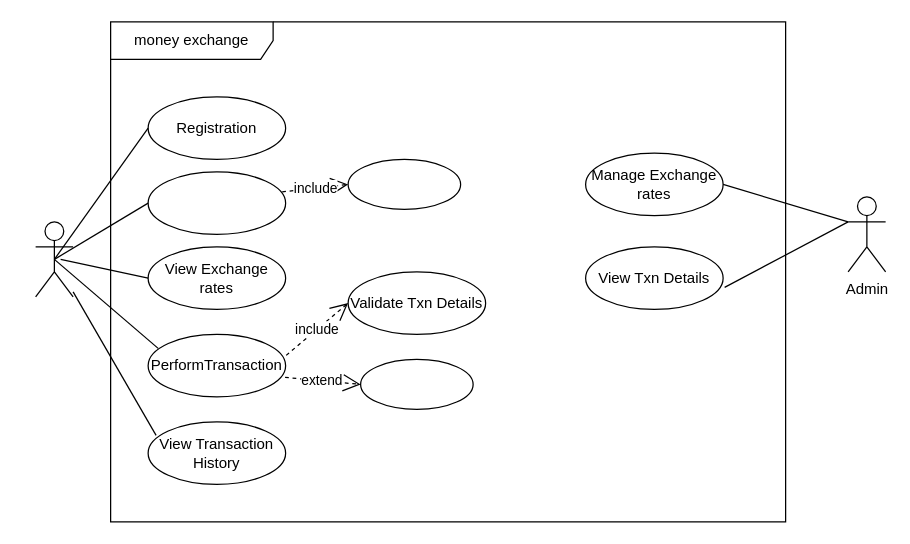
The diagram is 910 pixels wide and 544 high, and some of its shapes have lost their labels. The shapes that lost their labels are listed below. From the top down, each one's box as (x1, y1, x2, y2) in pixels, then its label:
(147, 171, 286, 234): Login
(347, 158, 461, 209): Authentication
(34, 221, 73, 297): Customer
(359, 358, 473, 409): Decline Transaction
